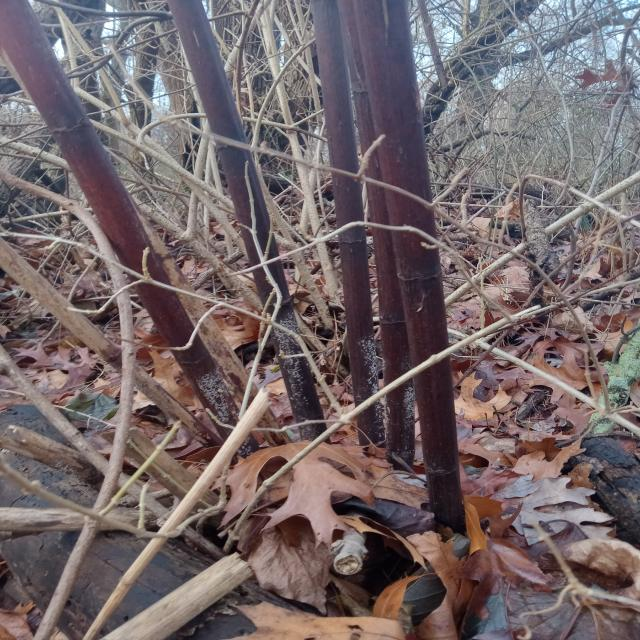knotweed-stems: (0, 1, 267, 458), (165, 0, 327, 443), (334, 1, 468, 534), (309, 0, 386, 450)
